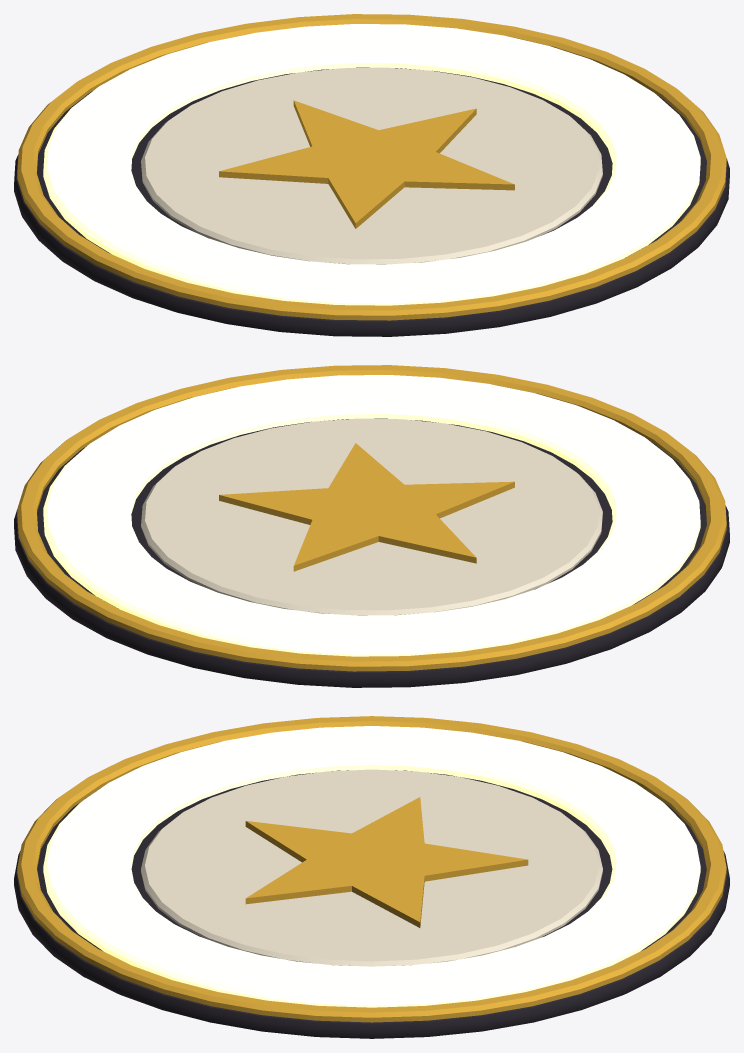
File: chairs_pad.glb
3 views of the same model, one above another, from view 1: azimuth 30°, elevation 25°; view 2: azimuth 150°, elevation 25°; view 3: azimuth 270°, elevation 25° (orthographic).
Parts seen in each view (by area): view 1: chairs_pad; view 2: chairs_pad; view 3: chairs_pad.
Part boxes in pixels (x1,y1,x2,y2): chairs_pad: [14, 14, 729, 336]; chairs_pad: [14, 365, 729, 687]; chairs_pad: [14, 716, 729, 1038].
Size of the model in its own units: 1.1 by 0.05 by 1.1.
